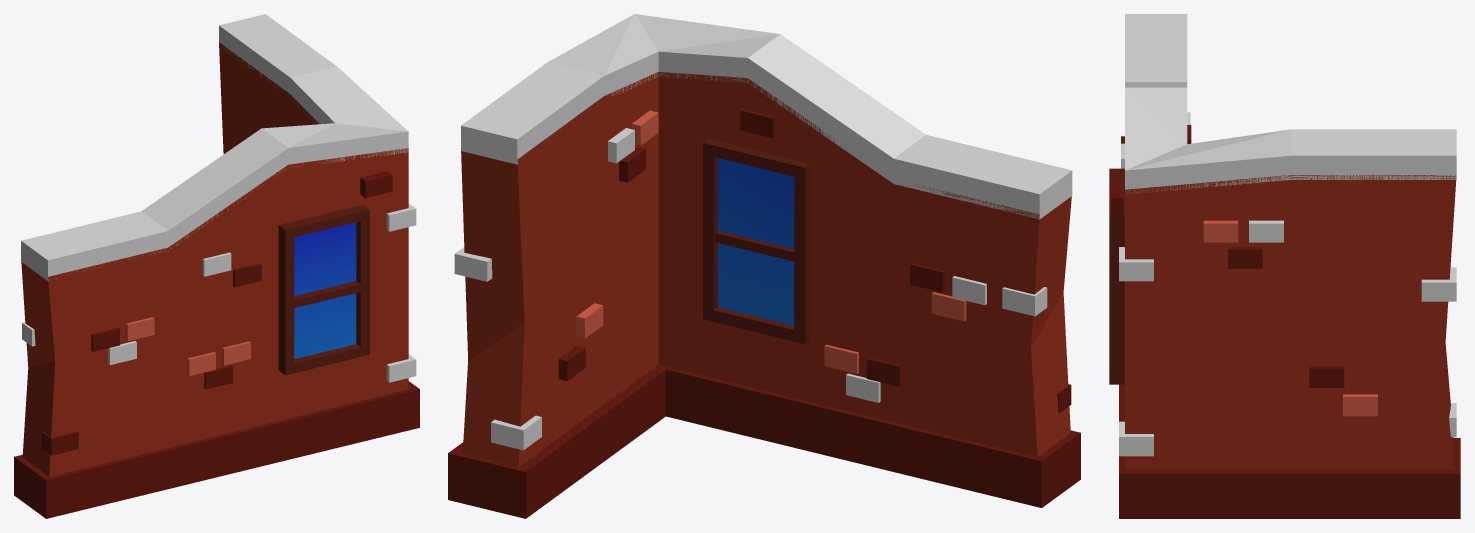
Rendered from House2.FBX.
The picture shows the model from 3 angles, left to right: view 1: azimuth 30°, elevation 25°; view 2: azimuth 150°, elevation 25°; view 3: azimuth 270°, elevation 25°; orthographic projection. The views are drawn at different scales.
Visible parts, largest first — view 1: House2; view 2: House2; view 3: House2.
Boxes of the visible parts, x1,y1,x2,y2 form: House2: [14, 14, 419, 518]; House2: [448, 14, 1080, 518]; House2: [1109, 14, 1460, 518].
Bounding box in the file's own units: 69.8 × 55.18 × 49.08.
